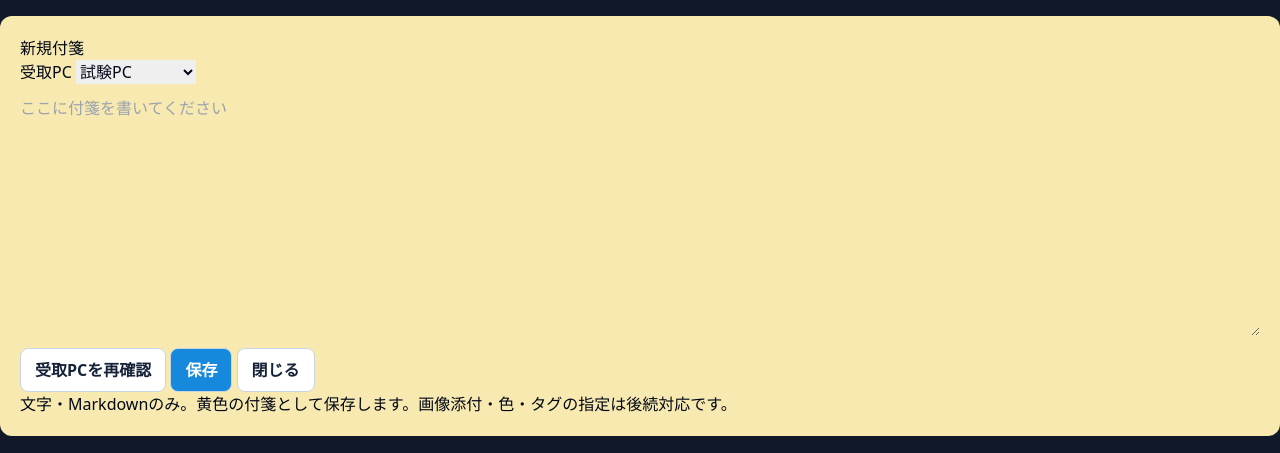
minimal Web creation › does not redirect an existing draft to another PC when its receiver disappears
The image size is (1280, 453).
Type "元PC宛の本文" into the text box named "新規付箋の本文". click: (640, 216)
box: [20, 96, 1260, 336]
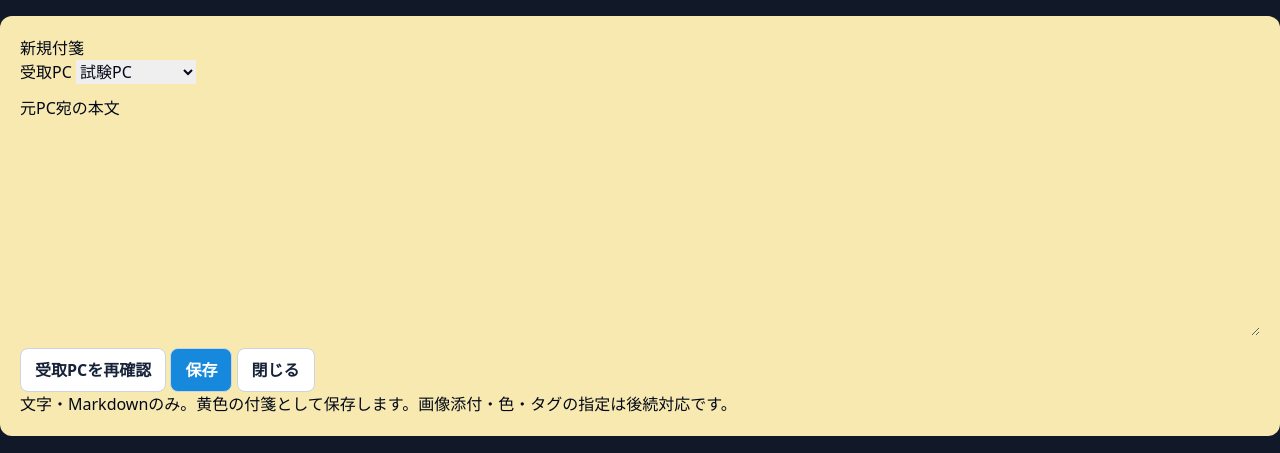
Click the button "受取PCを再確認". click: (93, 370)
box: [20, 348, 166, 392]
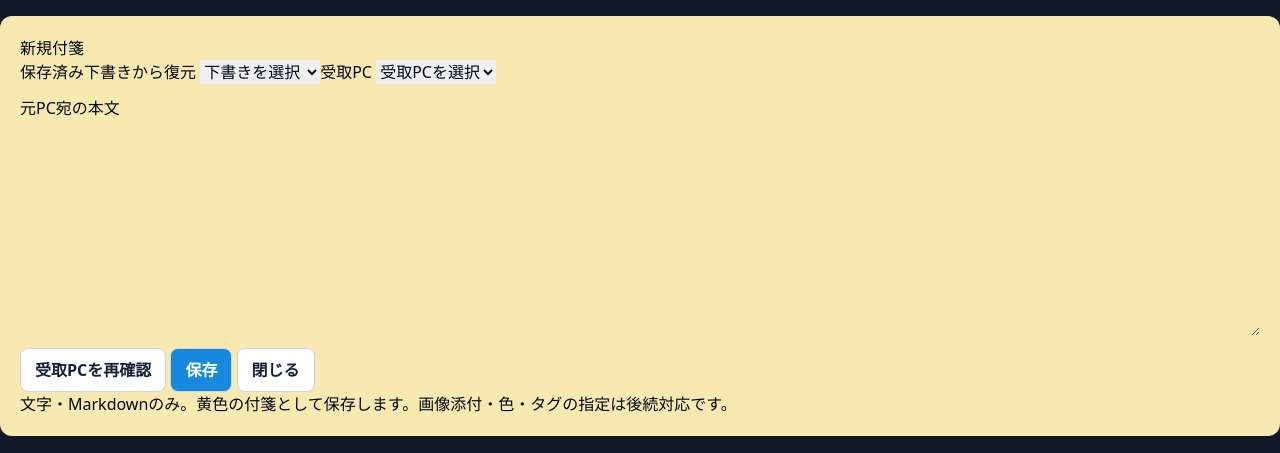
Expected: the button "保存" is disabled, [170, 348, 232, 392]
Expected: the dropdown labelled "受取PC" shows "受取PCを選択", [376, 60, 496, 84]
